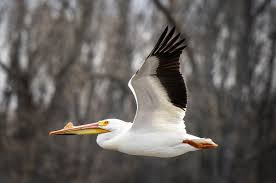pelican: (49, 26, 218, 159)
